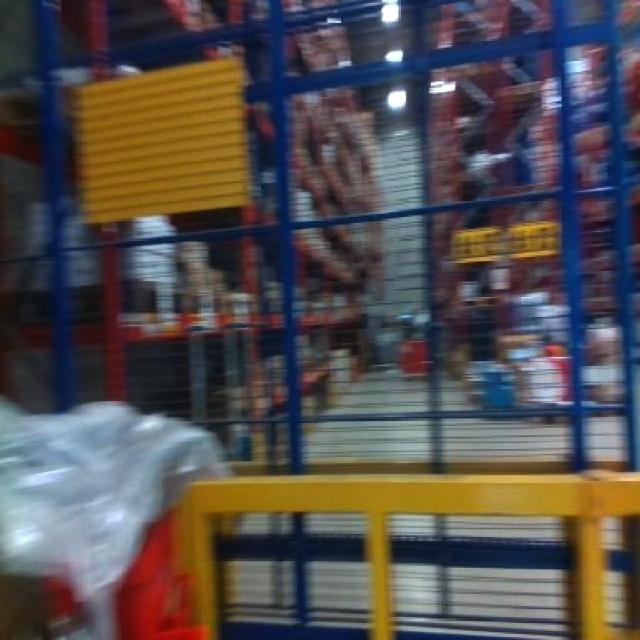pallets: (175, 472, 637, 637), (200, 508, 637, 637), (118, 548, 182, 632), (2, 580, 77, 637)
